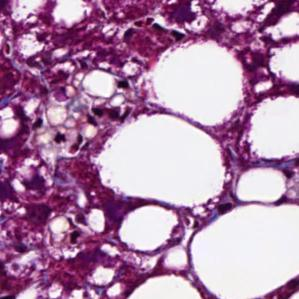inflammation: (4, 99, 51, 139), (12, 162, 59, 199), (81, 103, 138, 129)
